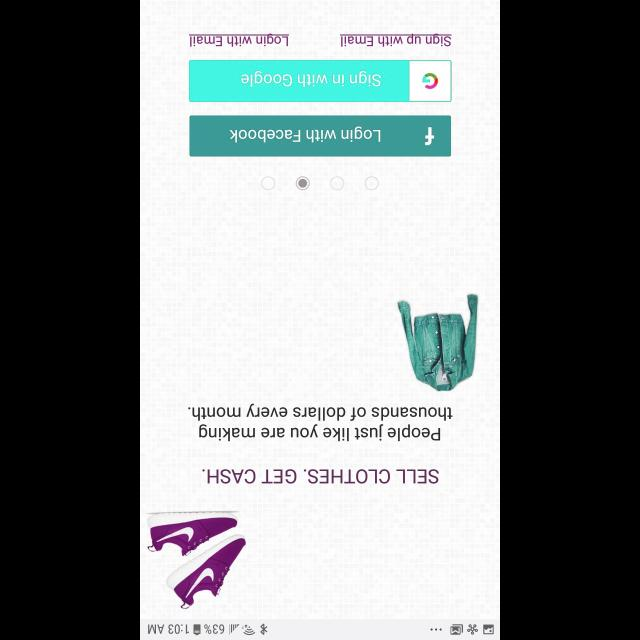image: (146, 510, 246, 610), (398, 294, 478, 392)
pageindicator: (261, 176, 379, 190)
text: (188, 403, 452, 441), (202, 468, 438, 484), (340, 33, 452, 47), (189, 33, 289, 47)
textbutton: (189, 60, 451, 102), (190, 116, 450, 156)
uppertaskbar: (140, 618, 500, 640)
